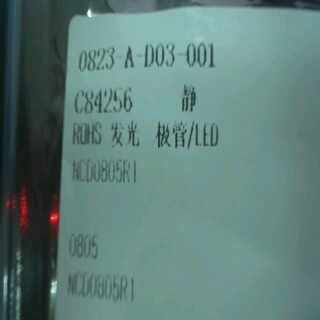LED: (105, 114, 233, 153)
